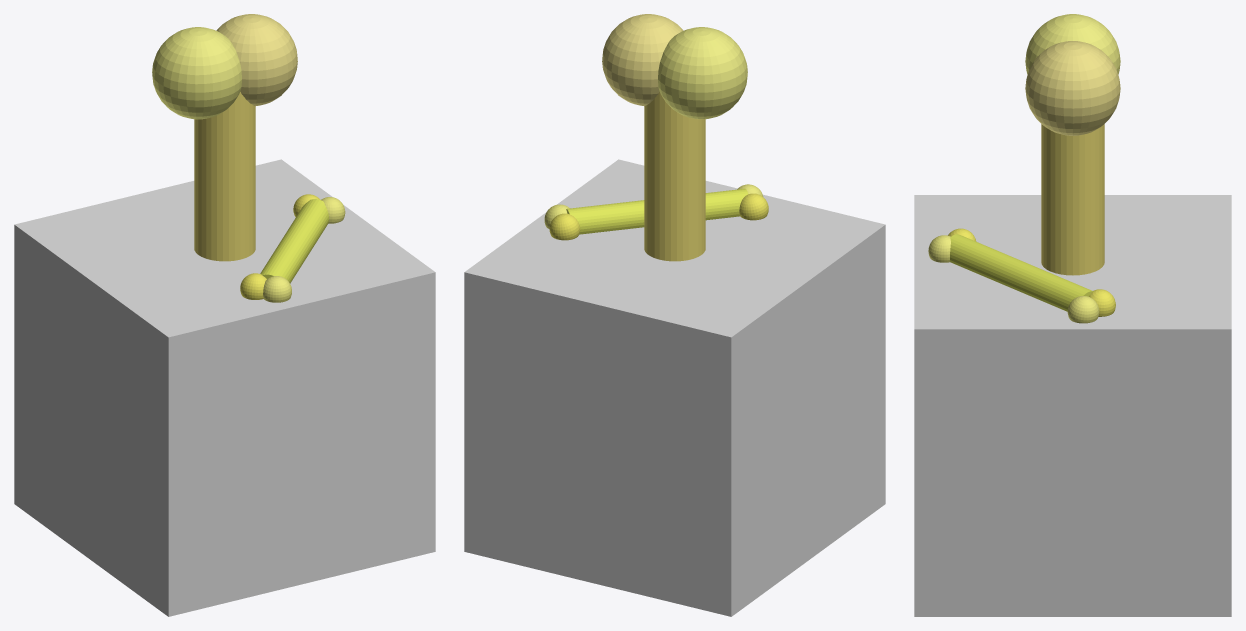
File: tile_no_build.fbx
3 renders of one model, left to right at view 1: azimuth 30°, elevation 25°; view 2: azimuth 150°, elevation 25°; view 3: azimuth 270°, elevation 25°, orthographic. The views are drawn at different scales.
Parts seen in each view (by area): view 1: Cube, Cylinder, Sphere.001, Sphere, Cylinder.001, Sphere.005, Sphere.004; view 2: Cube, Cylinder, Sphere.001, Sphere, Cylinder.001, Sphere.003, Sphere.004; view 3: Cube, Cylinder, Sphere, Cylinder.001, Sphere.001, Sphere.002, Sphere.005, Sphere.003.
Boxes of the visible parts, x1,y1,x2,y2 form: Cube: (14,159,435,616); Cylinder: (194,92,255,261); Sphere.001: (152,27,241,119); Sphere: (216,14,297,105); Cylinder.001: (260,199,329,283); Sphere.005: (263,276,291,302); Sphere.004: (240,273,266,299); Cube: (464,159,885,616); Cylinder: (644,92,705,261); Sphere.001: (658,27,747,119); Sphere: (602,14,683,105); Cylinder.001: (566,188,748,234); Sphere.003: (549,213,580,240); Sphere.004: (739,193,768,220); Cube: (914,195,1231,616); Cylinder: (1041,124,1104,275); Sphere: (1025,41,1120,135); Cylinder.001: (950,234,1092,311); Sphere.001: (1025,14,1120,74); Sphere.002: (1067,296,1099,323); Sphere.005: (928,235,950,262); Sphere.003: (1089,289,1115,316).
Bounding box in the file's own units: 200 × 360 × 200.
